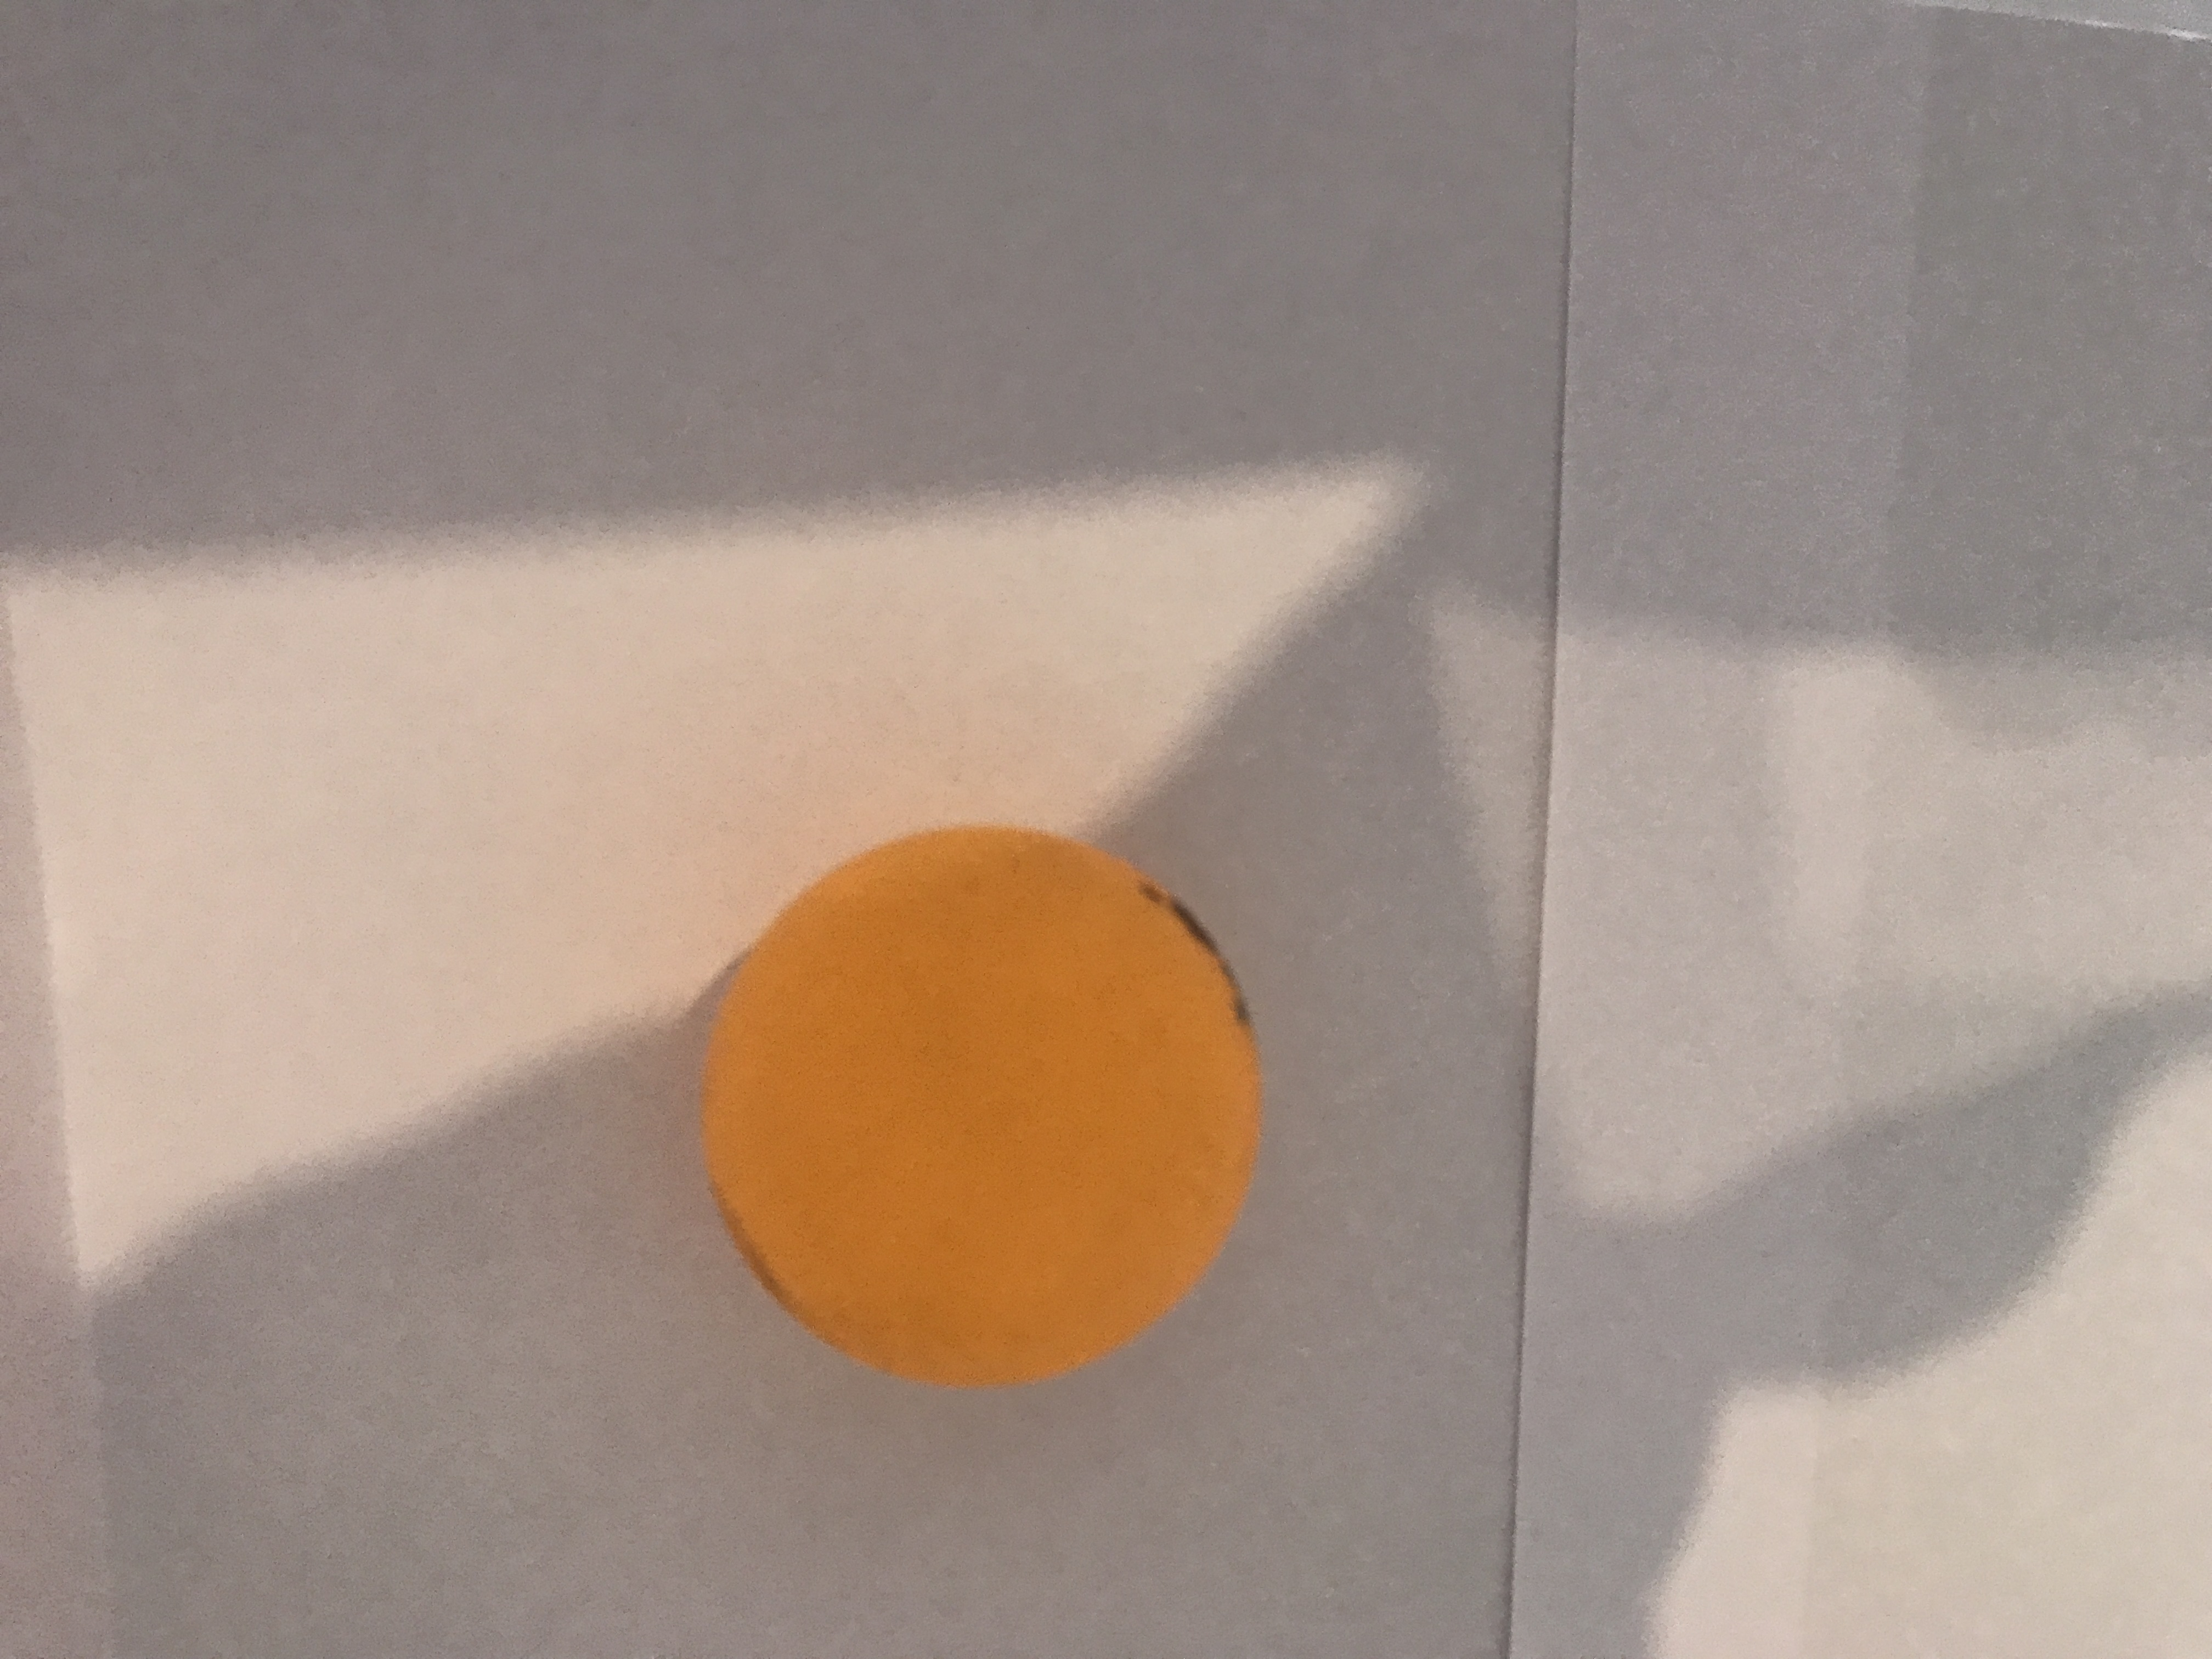pp: (678, 826, 1284, 1392)
